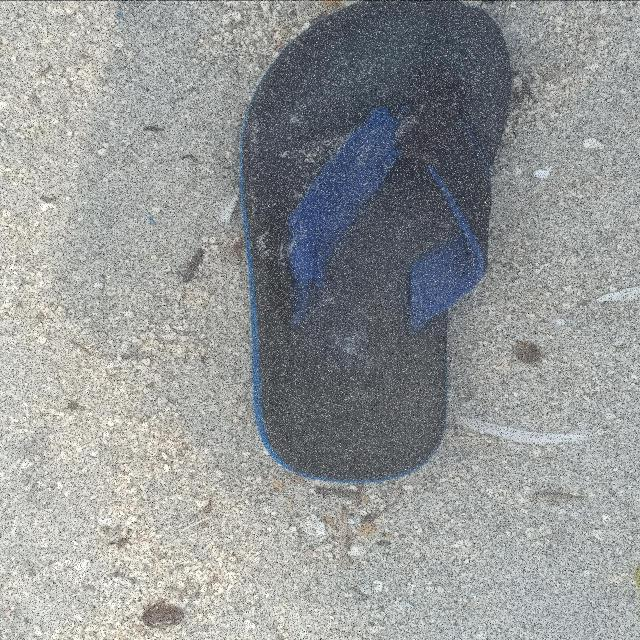rubber_waste: (238, 1, 517, 487)
